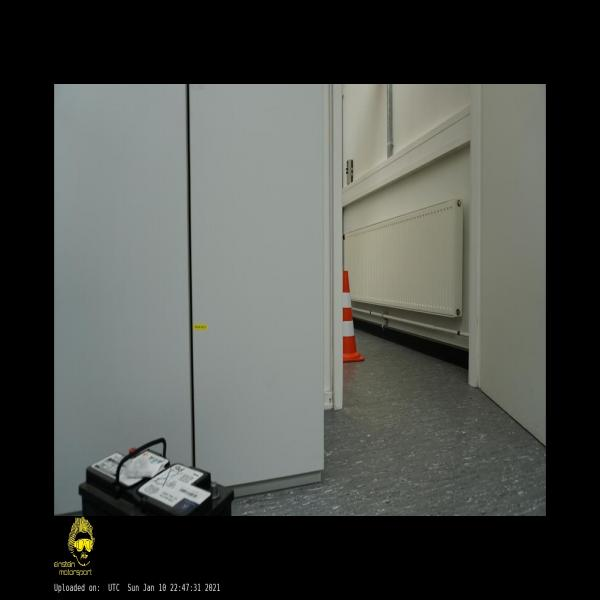large_orange_cone: (343, 271, 364, 361)
